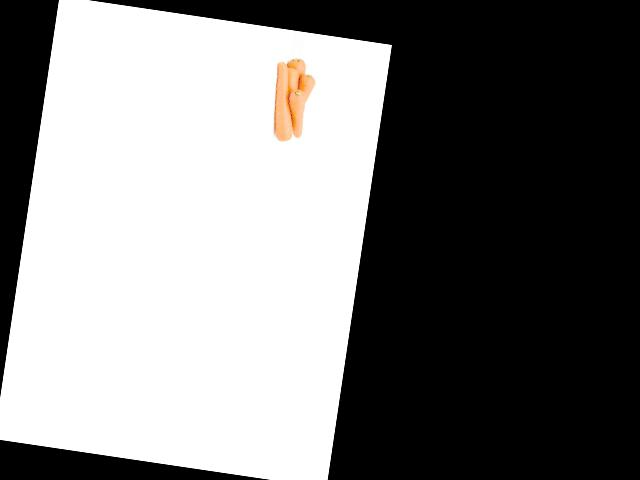carrot: (294, 71, 315, 106)
